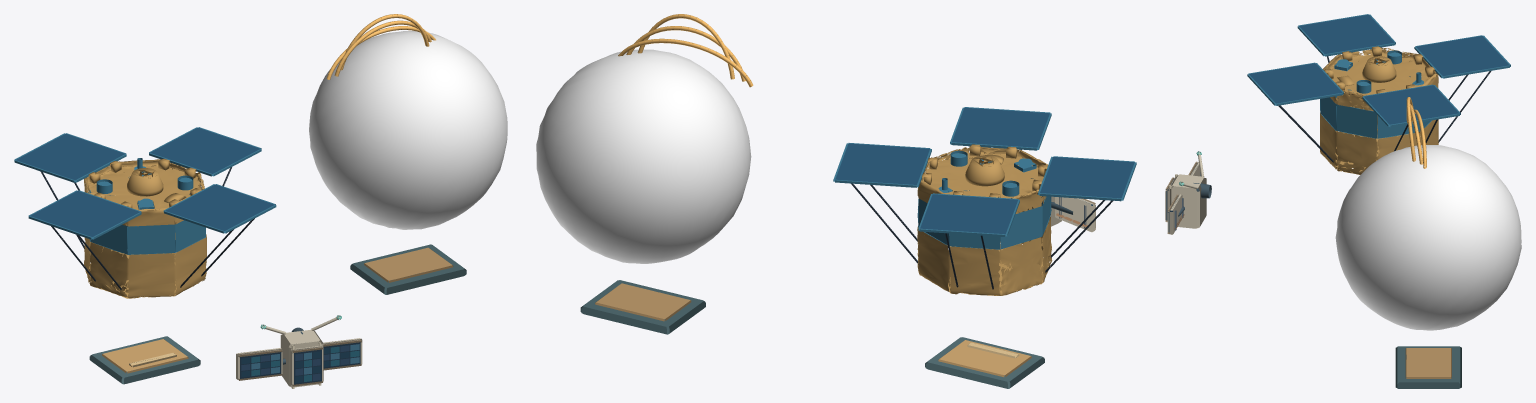
Rendered from sol-fulguracion.obj.
3 views of the same model, side by side, from view 1: azimuth 30°, elevation 25°; view 2: azimuth 150°, elevation 25°; view 3: azimuth 270°, elevation 25° (orthographic). The views are drawn at different scales.
Visible parts, largest first — view 1: sol-fulguracion; view 2: sol-fulguracion; view 3: sol-fulguracion.
Boxes of the visible parts, <box> form: sol-fulguracion: <box>14,14,507,388</box>; sol-fulguracion: <box>536,14,1136,388</box>; sol-fulguracion: <box>1165,14,1521,388</box>.
Bounding box in the file's own units: 1.42 × 0.7442 × 0.94.
